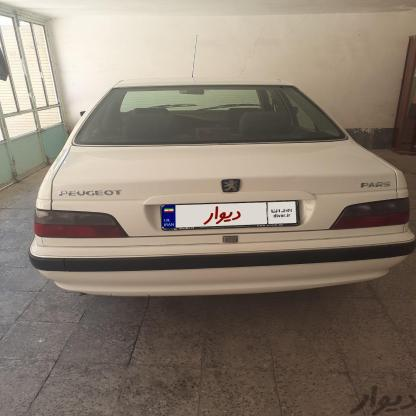Car: (16, 72, 416, 300)
